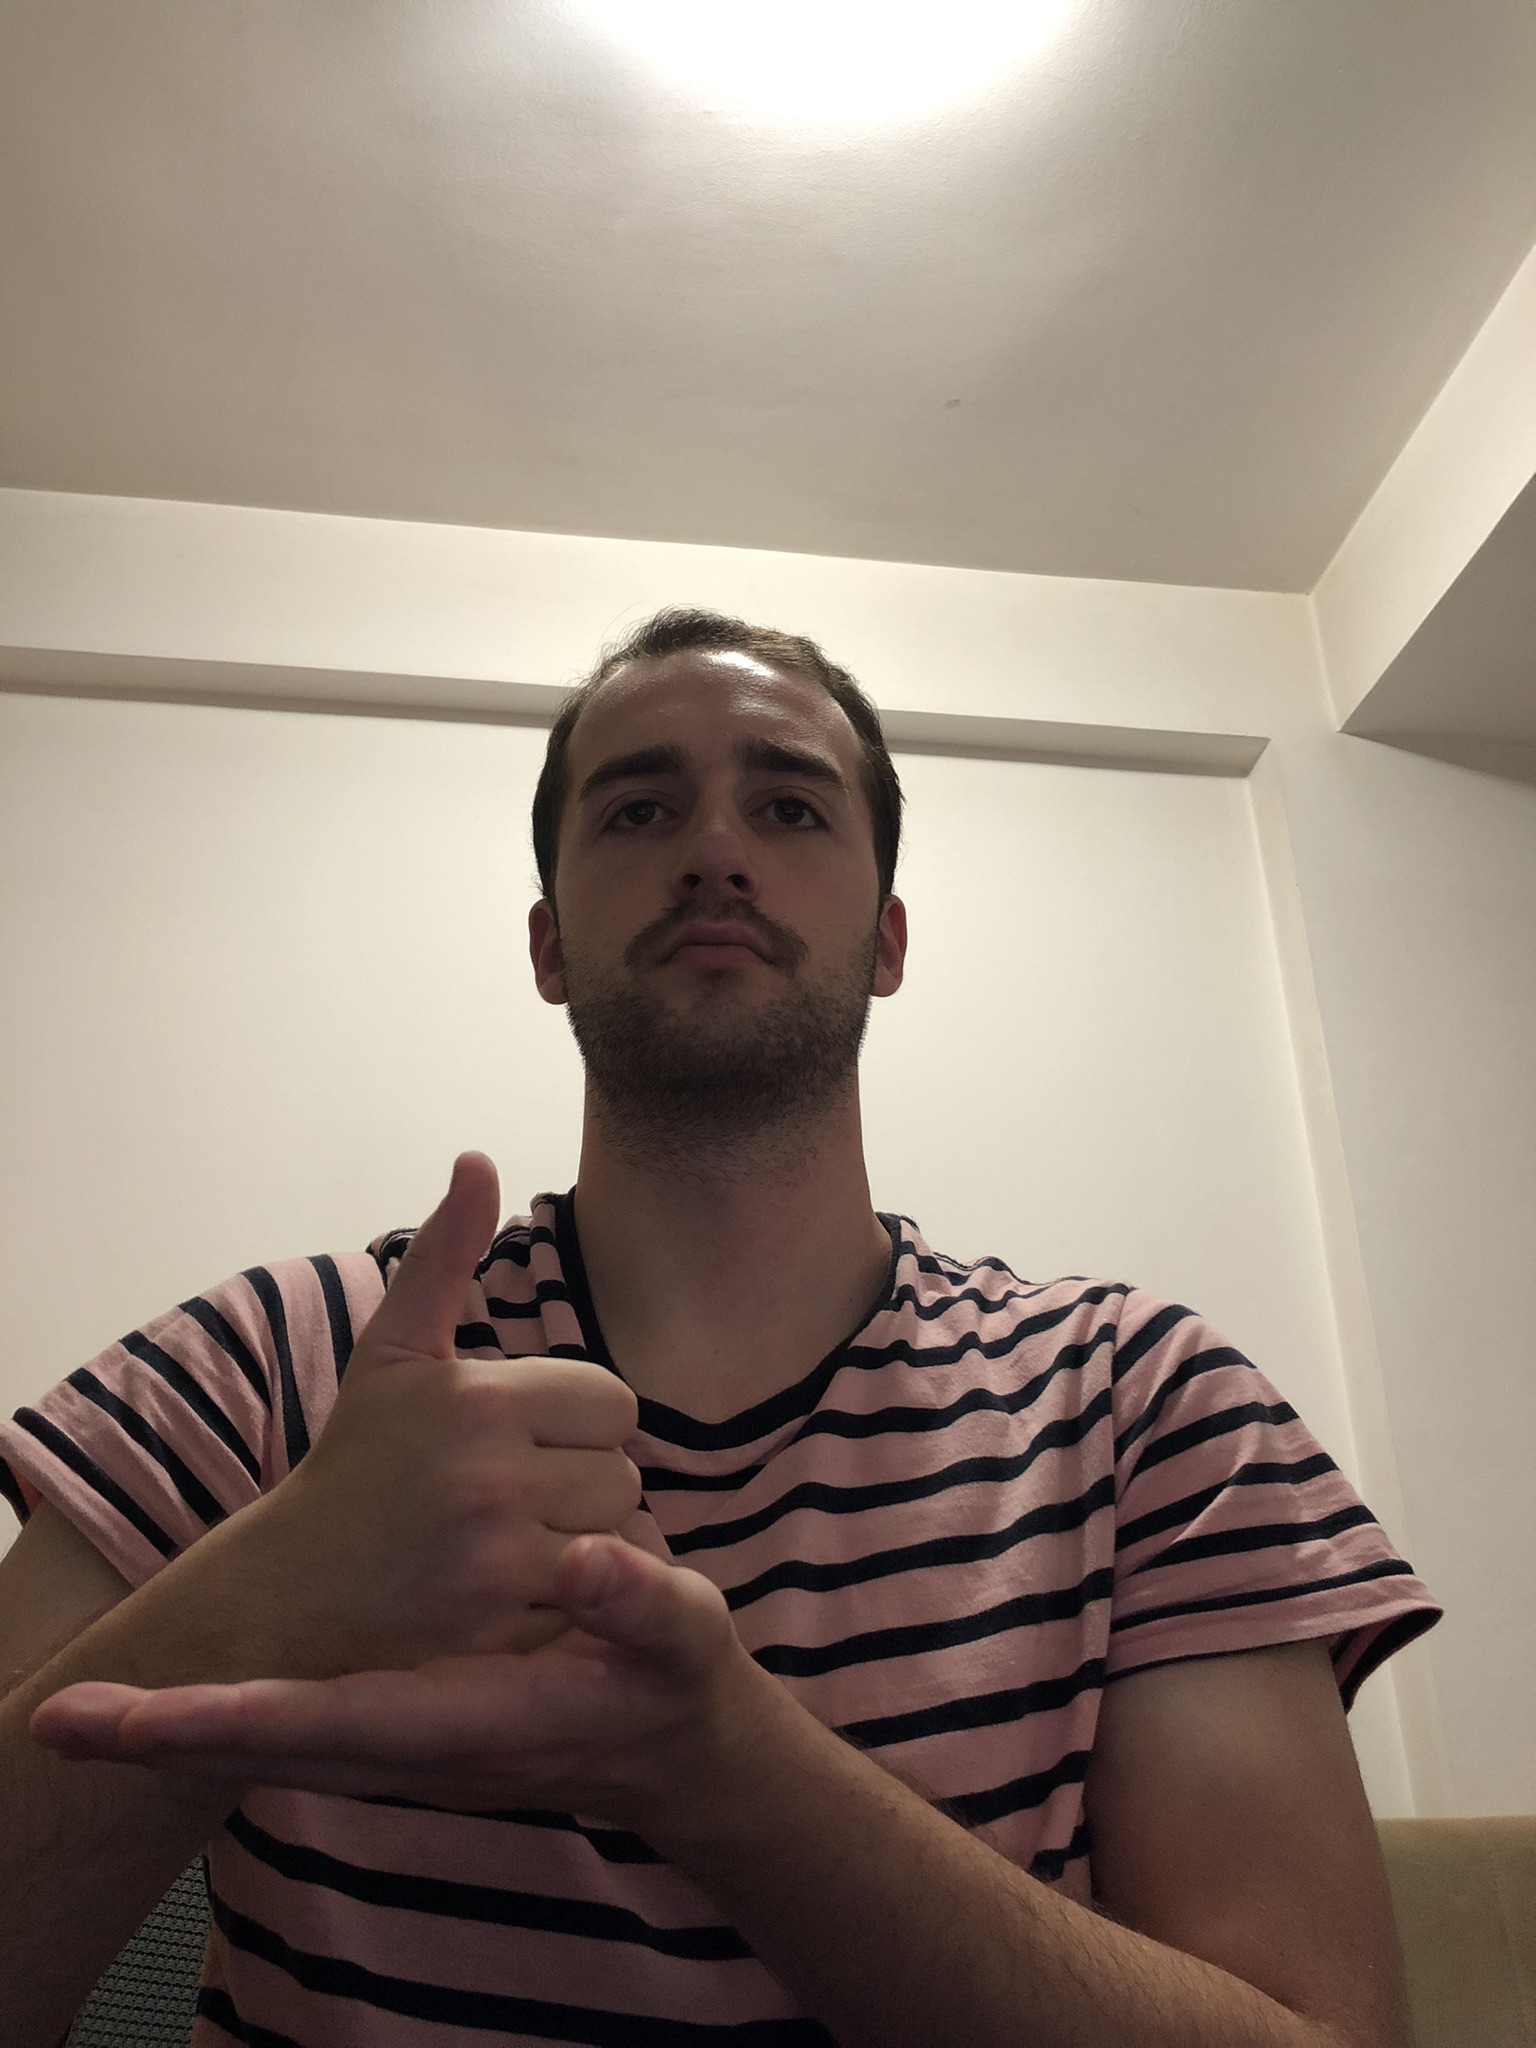Help: (19, 1114, 758, 1827)
